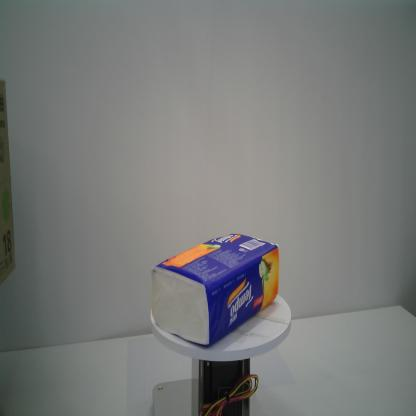Tissue: (148, 230, 280, 350)
